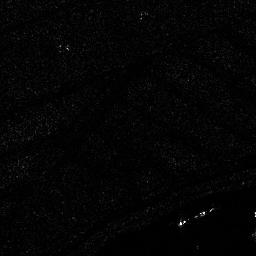ship: (177, 206, 216, 226)
